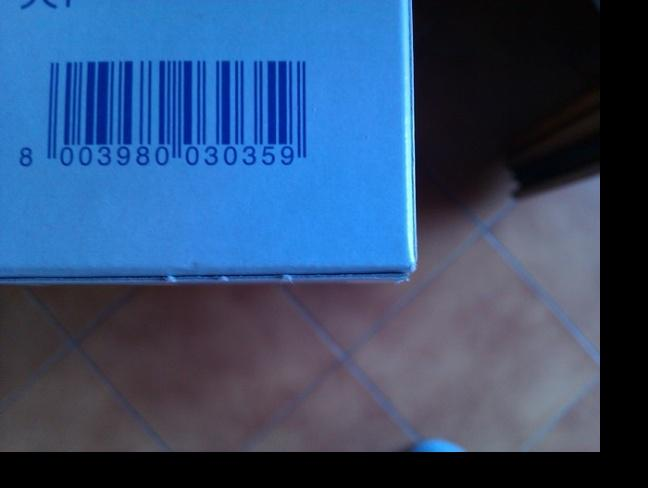Barcode: (7, 39, 332, 184)
